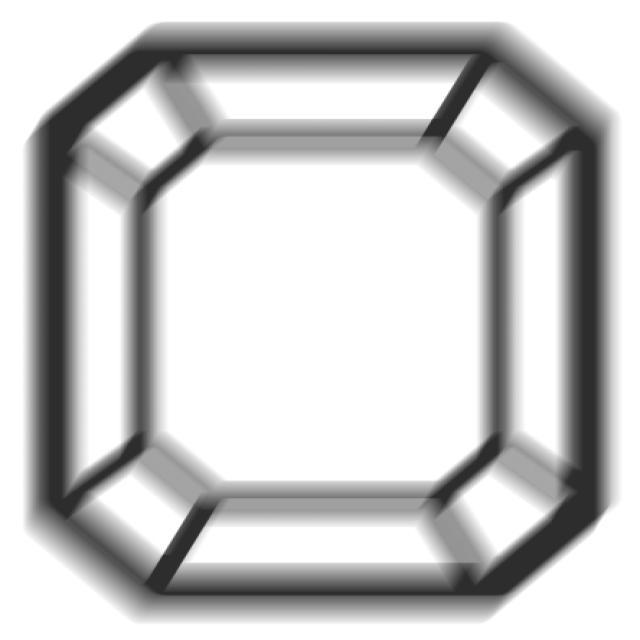emerald: (17, 16, 631, 626)
